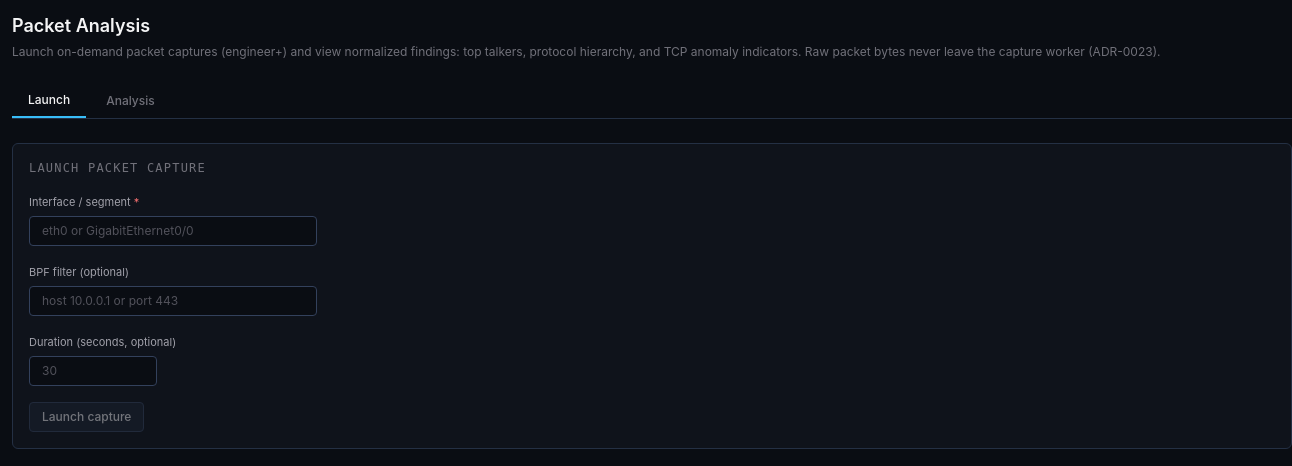
PacketPage — structure › switches to Analysis panel on tab click
The width and height of the screenshot is (1292, 466).
Click the tab with test id "packet-tab-analysis". click: (130, 101)
box: [90,84,171,118]
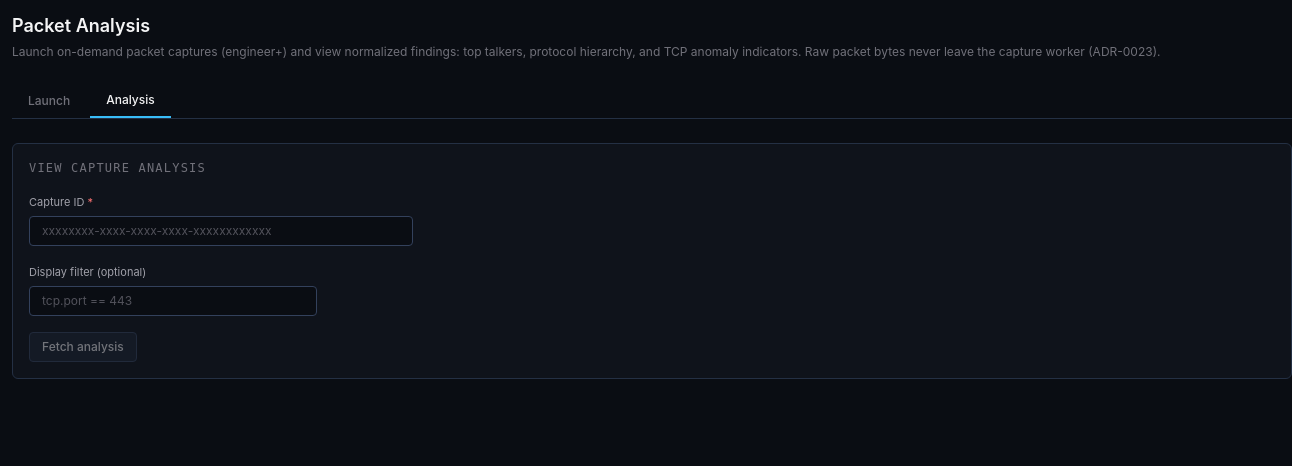
Now the form with test id "capture-analysis-form" is shown, box [12,143,1291,379]
